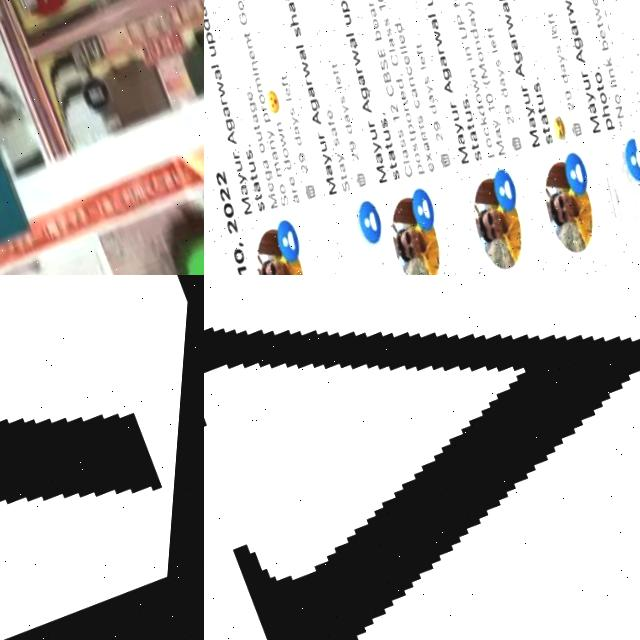0: (238, 243, 257, 265), (227, 199, 245, 219), (488, 86, 501, 100)
1: (243, 261, 257, 275), (491, 98, 503, 110), (396, 110, 408, 121), (379, 0, 391, 10)
2: (230, 214, 248, 234), (223, 182, 240, 201), (220, 168, 237, 187), (392, 98, 406, 112), (355, 146, 367, 159), (305, 159, 317, 171), (439, 126, 451, 138), (570, 93, 582, 105)
5: (507, 98, 520, 111)
9: (301, 147, 314, 161), (352, 135, 365, 149), (436, 114, 448, 128), (568, 82, 580, 96)
D: (0, 74, 43, 275)
N: (0, 275, 204, 640)
V: (204, 275, 640, 640)
